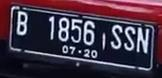1: (47, 15, 56, 41)
5: (70, 16, 82, 44)
6: (82, 20, 96, 44)
8: (56, 16, 70, 41)
B: (16, 10, 28, 36)
N: (136, 26, 150, 55)
S: (110, 22, 123, 50), (123, 25, 136, 53)
